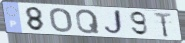8: (24, 6, 46, 32)
9: (128, 11, 150, 38)
J: (102, 9, 126, 37)
O: (48, 7, 74, 33)
Q: (74, 9, 101, 35)
T: (152, 11, 173, 38)
